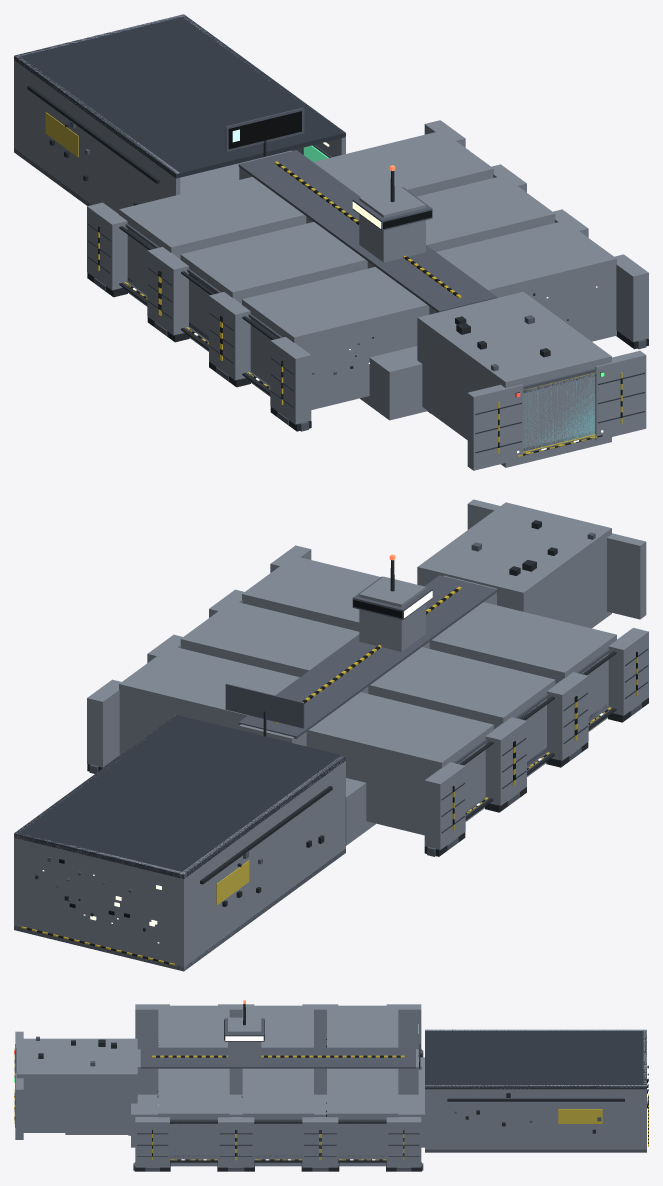
Rendered from spine-s.glb.
3 renders of one model, top to bottom at view 1: azimuth 30°, elevation 25°; view 2: azimuth 150°, elevation 25°; view 3: azimuth 270°, elevation 25°, orthographic. The views are drawn at different scales.
Visible parts, largest first — view 1: hallRoof, heavyHall, berthSM2LBlock, berthSM2RBlock, hallWallL, berthSM0LBlock, berthSM1LBlock, keelRail, berthSM0RBlock, berthSM1RBlock, berthLBlastHouseL, berthLBlastHouseR (+16 smaller); view 2: hallRoof, hallBackWall, heavyHall, berthSM0LBlock, hallWallL, berthSM2LBlock, berthSM1LBlock, berthSM0RBlock, keelRail, berthSM1RBlock, berthSM2RBlock, controlTower (+12 smaller); view 3: hallRoof, hallWallR, heavyHall, berthSM1RBlock, berthSM0RBlock, berthSM2RBlock, keelRail, berthSM0LBlock, berthSM2LBlock, transferLiftShaft (×4), berthSM1LBlock, keel (+17 smaller).
Boxes of the visible parts, bbox=[...] form: hallRoof: bbox=[14, 14, 345, 178]; heavyHall: bbox=[417, 291, 611, 467]; berthSM2LBlock: bbox=[242, 267, 429, 409]; berthSM2RBlock: bbox=[436, 220, 616, 341]; hallWallL: bbox=[14, 54, 180, 213]; berthSM0LBlock: bbox=[119, 177, 306, 306]; berthSM1LBlock: bbox=[180, 222, 367, 351]; keelRail: bbox=[238, 150, 497, 312]; berthSM0RBlock: bbox=[313, 130, 493, 196]; berthSM1RBlock: bbox=[416, 175, 555, 251]; berthLBlastHouseL: bbox=[467, 384, 523, 470]; berthLBlastHouseR: bbox=[595, 350, 646, 440]; hallRoof: bbox=[14, 715, 345, 878]; hallBackWall: bbox=[14, 833, 186, 970]; heavyHall: bbox=[417, 502, 611, 628]; berthSM0LBlock: bbox=[306, 692, 493, 835]; hallWallL: bbox=[179, 756, 345, 970]; berthSM2LBlock: bbox=[429, 602, 616, 731]; berthSM1LBlock: bbox=[368, 647, 555, 776]; berthSM0RBlock: bbox=[119, 646, 299, 755]; keelRail: bbox=[238, 575, 497, 738]; berthSM1RBlock: bbox=[180, 601, 359, 677]; berthSM2RBlock: bbox=[242, 556, 380, 631]; controlTower: bbox=[359, 576, 425, 651]; hallRoof: bbox=[425, 1029, 646, 1089]; hallWallR: bbox=[425, 1085, 646, 1149]; heavyHall: bbox=[16, 1038, 137, 1132]; berthSM1RBlock: bbox=[242, 1068, 313, 1166]; berthSM0RBlock: bbox=[327, 1068, 398, 1166]; berthSM2RBlock: bbox=[158, 1068, 229, 1166]; keelRail: bbox=[140, 1047, 415, 1068]; berthSM0LBlock: bbox=[327, 1005, 398, 1047]; berthSM2LBlock: bbox=[158, 1005, 229, 1047]; transferLiftShaft (×4): bbox=[65, 1082, 425, 1147]; berthSM1LBlock: bbox=[242, 1005, 313, 1047]; keel: bbox=[137, 1049, 418, 1094].
Size of the model in its own units: 33.76 by 16.34 by 76.11.
